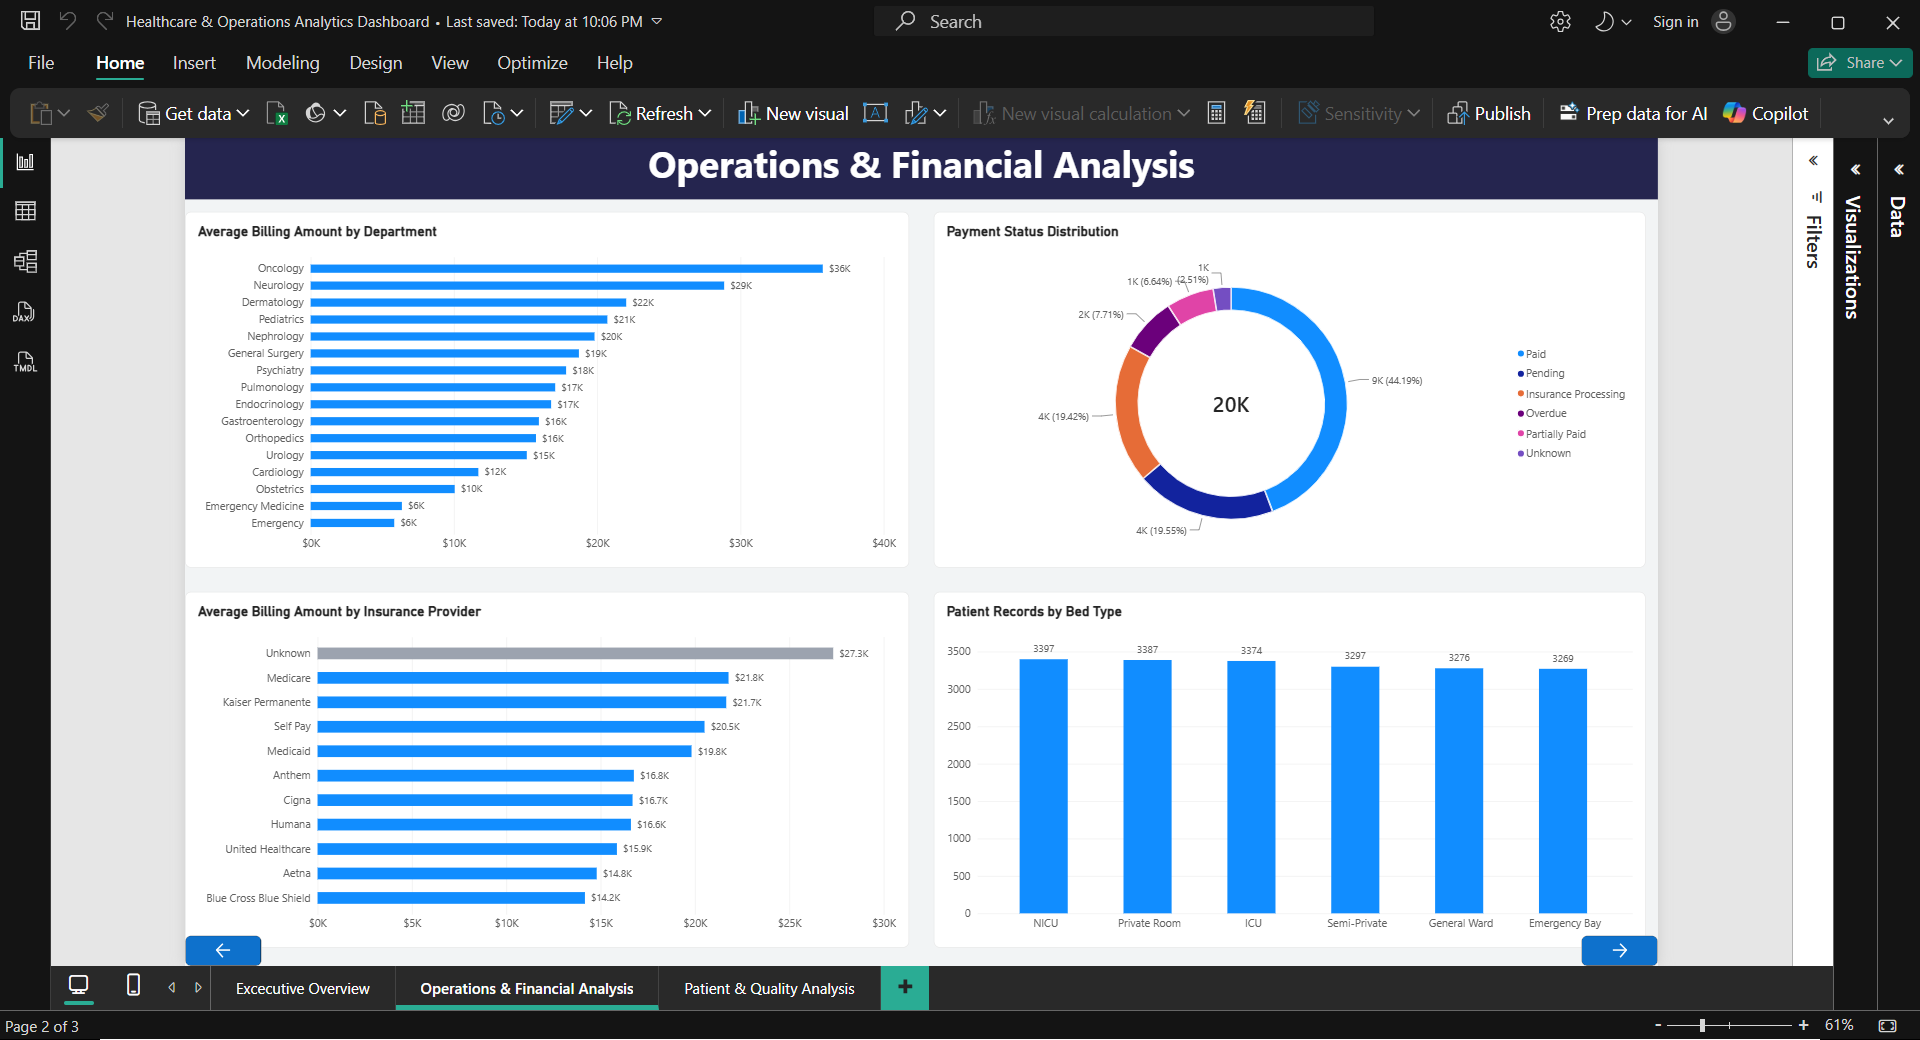

This screenshot's page, from the dashboard's own definition file:
{"tool":"powerbi","page":{"name":"Operations & Financial Analysis","canvas":[1920,1080],"ordinal":1},"visuals":[{"type":"clusteredBarChart","title":"Average Billing Amount by Department","fields":{"Category":["Clean Data.Department"],"Y":["Clean Data.Average Billing Amount"]},"box":[0,96,944,464],"z":0},{"type":"donutChart","title":"Payment Status Distribution","fields":{"Category":["Clean Data.Payment_Status"],"Y":["Clean Data.Total Patients"]},"box":[976,96,928,464],"z":1000},{"type":"clusteredBarChart","title":"Average Billing Amount by Insurance Provider","fields":{"Category":["Clean Data.Insurance_Provider"],"Y":["Clean Data.Average Billing Amount"]},"box":[0,592,944,464],"z":2000},{"type":"clusteredColumnChart","title":"Patient Records by Bed Type","fields":{"Category":["Clean Data.Bed_Type"],"Y":["Clean Data.Total Patients"]},"box":[976,592,928,464],"z":3000},{"type":"textbox","box":[0,0,1920,80],"z":4000},{"type":"actionButton","box":[1820,1040,100,40],"z":5000},{"type":"actionButton","box":[0,1040,100,40],"z":6000}]}

Visuals, with their boxes on the page's 1920x1080 design canvas (x1, y1, x2, y2). These are canvas units, not pixel positions in the 1920x1040 screenshot, which may show the page scaled, cropped or inside an application window:
"Average Billing Amount by Department" clusteredBarChart: detection(0, 96, 944, 560)
"Payment Status Distribution" donutChart: detection(976, 96, 1904, 560)
"Average Billing Amount by Insurance Provider" clusteredBarChart: detection(0, 592, 944, 1056)
"Patient Records by Bed Type" clusteredColumnChart: detection(976, 592, 1904, 1056)
textbox: detection(0, 0, 1920, 80)
actionButton: detection(1820, 1040, 1920, 1080)
actionButton: detection(0, 1040, 100, 1080)
